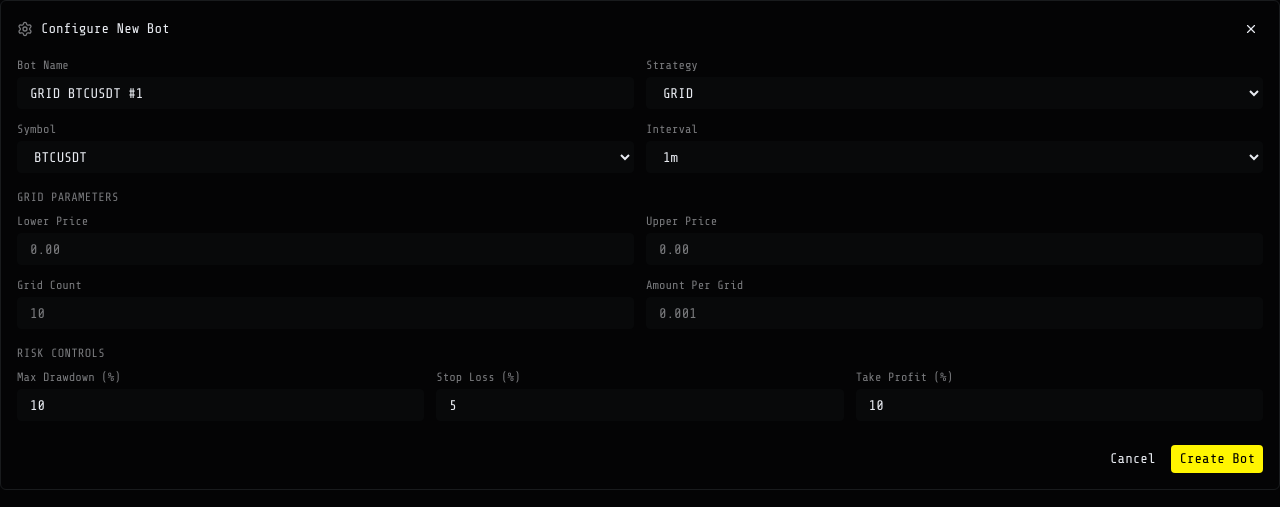
Test case: BotConfigForm › switches to DCA parameters when DCA strategy is selected
Select "DCA" in the dropdown labelled "Strategy" at (954, 93), box [646, 77, 1263, 109]
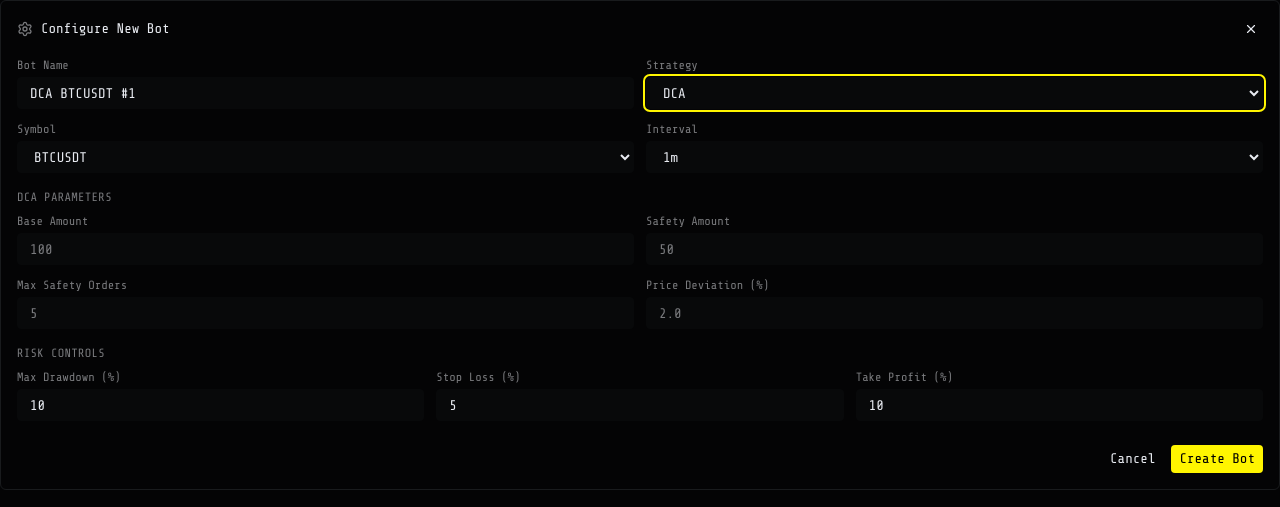
Expected: the number field labelled "Base Amount" is shown, [17, 233, 634, 265]
Expected: the number field labelled "Safety Amount" is shown, [646, 233, 1263, 265]
Expected: the number field labelled "Max Safety Orders" is shown, [17, 297, 634, 329]
